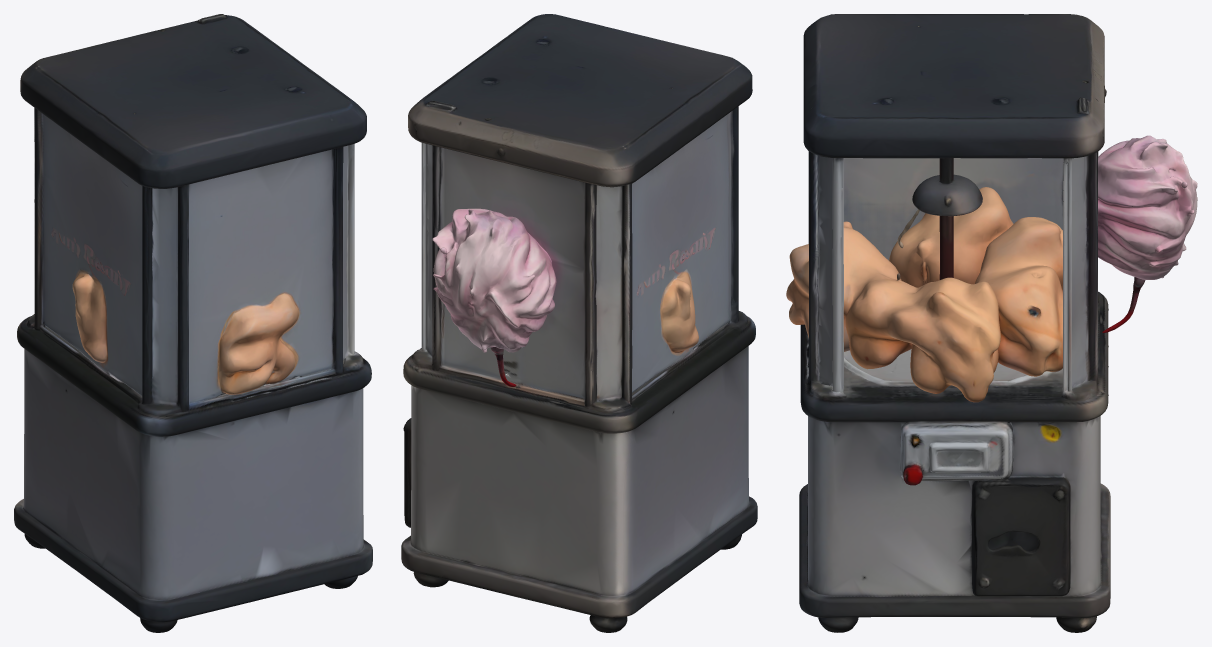
The model's file is prop-cotton-candy.glb.
The picture shows the model from 3 angles, left to right: view 1: azimuth 30°, elevation 25°; view 2: azimuth 150°, elevation 25°; view 3: azimuth 270°, elevation 25°; orthographic projection. The views are drawn at different scales.
Parts seen in each view (by area): view 1: tripo_node_0ec189b1-491d-470d-a817-f822b882d27b; view 2: tripo_node_0ec189b1-491d-470d-a817-f822b882d27b; view 3: tripo_node_0ec189b1-491d-470d-a817-f822b882d27b.
Boxes of the visible parts, bbox=[...] form: tripo_node_0ec189b1-491d-470d-a817-f822b882d27b: bbox=[14, 14, 372, 632]; tripo_node_0ec189b1-491d-470d-a817-f822b882d27b: bbox=[401, 14, 757, 632]; tripo_node_0ec189b1-491d-470d-a817-f822b882d27b: bbox=[786, 14, 1197, 632].
Size of the model in its own units: 0.8124 by 1.5 by 1.08.
1 material, 1 textured.
